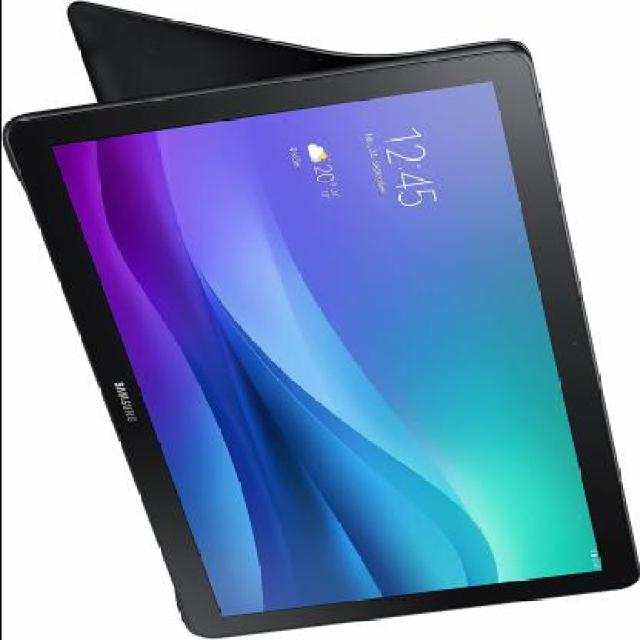smart phone: (19, 17, 626, 633)
